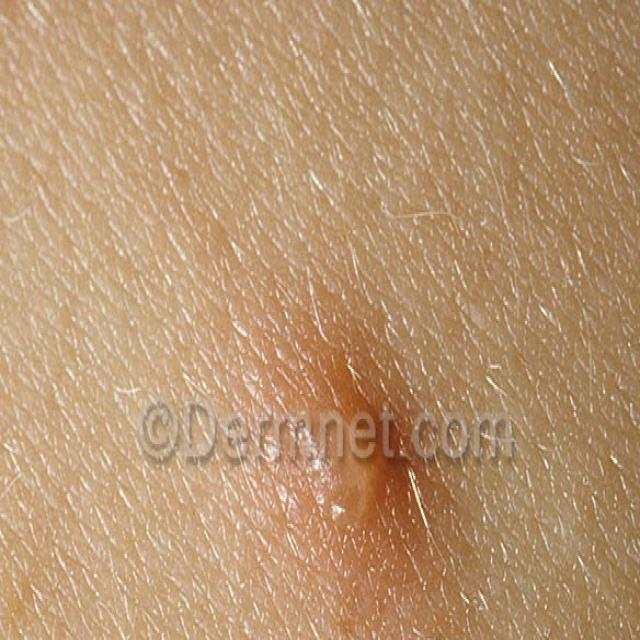Viral Infections: (260, 286, 441, 597)
